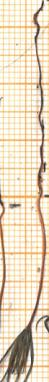flower: (0, 322, 41, 382)
root: (29, 0, 48, 196)
stem: (24, 194, 49, 328)
